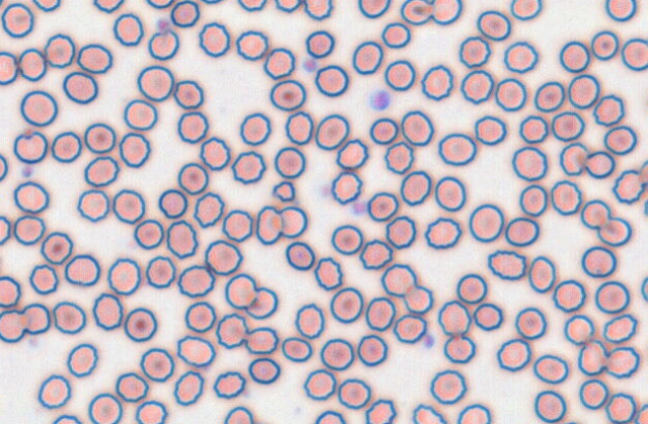PLT: (371, 88, 392, 111), (301, 57, 318, 72), (155, 17, 171, 32), (20, 162, 35, 178), (352, 200, 369, 214), (422, 334, 436, 348), (319, 183, 333, 197)
RBC: (204, 239, 243, 275), (468, 203, 504, 242), (19, 90, 58, 126), (137, 65, 174, 101), (429, 369, 467, 404), (437, 132, 476, 166), (314, 113, 349, 150), (107, 257, 141, 295), (511, 146, 547, 181), (329, 286, 363, 323), (177, 264, 215, 297), (176, 335, 215, 367), (166, 219, 198, 258), (139, 347, 174, 382), (437, 300, 471, 336), (123, 306, 157, 342), (594, 280, 630, 314), (400, 110, 434, 146), (380, 263, 417, 296), (424, 216, 461, 249), (487, 249, 526, 280), (496, 338, 531, 372), (37, 374, 71, 409), (231, 150, 266, 184), (460, 69, 494, 104), (224, 273, 257, 309), (215, 312, 248, 348), (580, 245, 616, 278), (13, 180, 49, 213), (64, 253, 100, 286), (1, 2, 34, 38), (112, 188, 145, 224), (62, 71, 98, 104), (420, 64, 453, 100), (567, 73, 600, 109), (269, 79, 306, 111), (92, 292, 123, 330), (533, 389, 567, 423), (52, 300, 86, 334), (319, 337, 354, 370), (503, 40, 538, 73), (550, 179, 582, 215), (118, 132, 150, 168), (434, 175, 466, 211), (198, 21, 230, 57), (577, 339, 608, 376), (193, 191, 224, 228), (294, 302, 325, 339), (552, 279, 586, 312), (13, 130, 47, 163), (611, 169, 643, 204), (605, 346, 640, 378), (84, 155, 119, 187), (351, 40, 383, 75), (66, 342, 98, 377), (399, 170, 431, 205), (43, 33, 75, 68), (173, 370, 204, 406), (532, 353, 568, 384), (76, 43, 112, 74), (527, 255, 556, 293), (255, 205, 283, 244), (245, 286, 278, 319), (514, 306, 547, 339), (40, 231, 73, 264), (76, 189, 109, 222), (458, 35, 491, 68), (330, 170, 362, 204), (302, 368, 336, 400), (221, 208, 253, 242), (314, 64, 348, 96), (112, 12, 144, 46), (494, 77, 526, 111), (476, 9, 510, 41), (87, 392, 122, 423), (365, 296, 396, 331), (504, 216, 539, 247), (335, 138, 368, 170), (273, 146, 306, 178), (50, 130, 82, 163), (592, 94, 625, 126), (239, 112, 271, 145), (359, 238, 393, 269), (337, 378, 371, 409), (385, 215, 416, 249), (199, 136, 230, 170), (123, 99, 157, 130), (551, 110, 585, 141), (392, 313, 427, 343), (597, 216, 632, 246), (602, 313, 637, 343), (184, 301, 216, 333), (147, 28, 179, 60), (263, 47, 295, 79), (533, 80, 565, 112), (115, 371, 148, 402), (383, 141, 414, 174), (145, 255, 176, 288), (330, 224, 363, 255), (83, 122, 116, 153), (313, 256, 343, 290), (603, 125, 637, 155), (284, 110, 313, 145), (356, 334, 387, 366), (177, 162, 208, 194), (13, 214, 45, 245), (177, 111, 208, 143), (384, 59, 415, 91), (559, 40, 590, 72), (443, 334, 476, 364), (474, 115, 507, 145), (235, 30, 268, 60), (559, 142, 588, 176), (563, 314, 594, 345), (456, 273, 487, 304), (133, 218, 164, 249), (605, 392, 636, 423), (21, 302, 51, 334), (578, 378, 608, 410), (366, 191, 398, 221), (212, 370, 246, 398), (18, 47, 46, 81), (580, 199, 611, 229), (28, 263, 58, 294), (518, 184, 547, 216), (279, 205, 307, 238), (245, 326, 278, 354), (403, 284, 433, 314), (285, 240, 315, 270), (158, 188, 188, 218), (173, 79, 203, 109), (472, 302, 503, 331), (247, 357, 280, 384), (0, 309, 26, 343), (621, 37, 647, 71), (518, 114, 548, 143), (584, 150, 615, 178), (590, 30, 618, 60), (400, 0, 433, 25), (305, 30, 334, 58), (281, 336, 312, 362), (364, 398, 396, 423), (369, 117, 398, 144), (170, 0, 199, 27), (431, 0, 462, 25), (134, 400, 167, 423), (381, 22, 410, 48), (412, 403, 447, 423), (456, 403, 491, 423), (0, 275, 21, 307), (604, 0, 636, 21), (509, 0, 542, 20), (0, 50, 18, 85), (357, 0, 390, 18), (303, 0, 332, 20), (223, 405, 254, 423), (314, 409, 346, 423), (93, 0, 124, 13), (237, 0, 266, 12), (32, 0, 60, 12), (0, 215, 11, 245), (274, 0, 301, 12), (52, 414, 82, 423), (145, 0, 174, 9), (635, 403, 647, 423), (638, 159, 647, 184), (0, 153, 8, 181), (640, 275, 647, 302), (200, 0, 225, 4), (643, 198, 648, 217), (0, 249, 2, 275)
Schistocyte: (273, 181, 295, 201)
